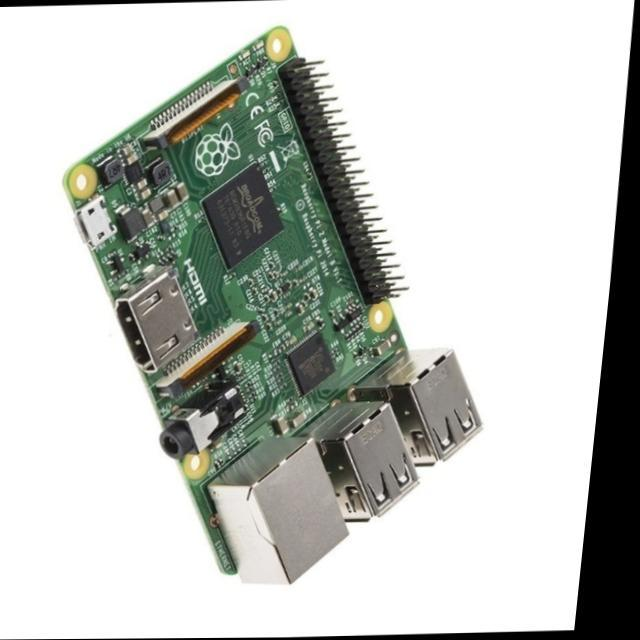Raspberry-Pi-2-B: (65, 27, 482, 584)
